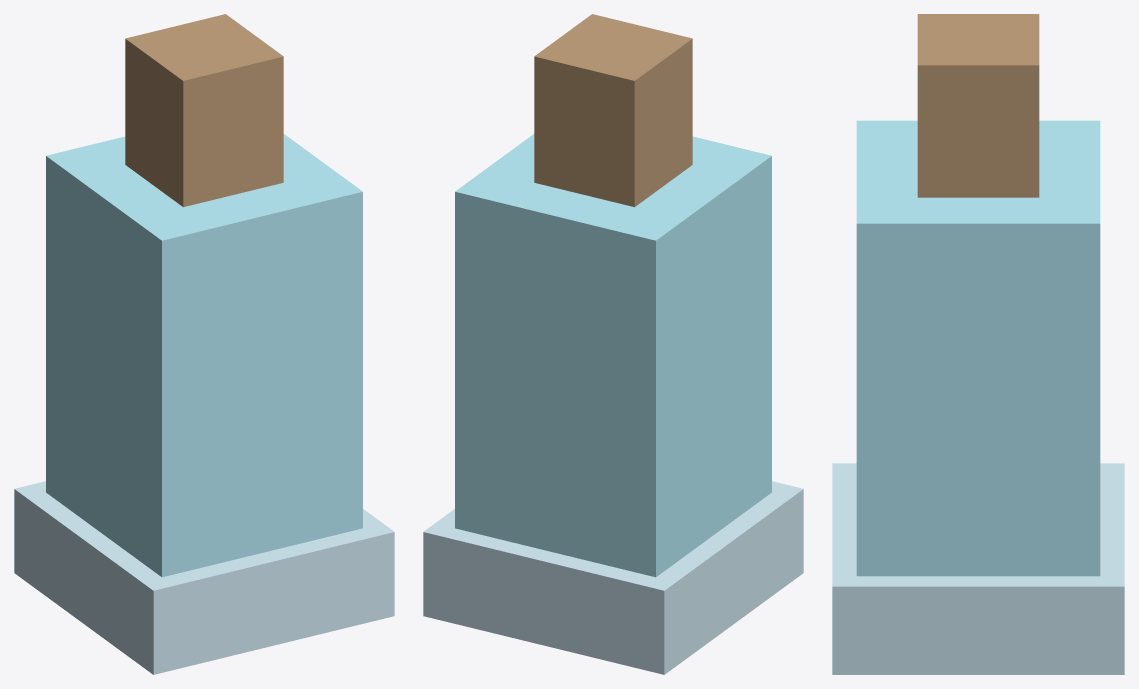
Rendered from Item_Tonic_AMF_Calm_T2.glb.
3 views of the same model, side by side, from view 1: azimuth 30°, elevation 25°; view 2: azimuth 150°, elevation 25°; view 3: azimuth 270°, elevation 25° (orthographic). The views are drawn at different scales.
Parts seen in each view (by area): view 1: Item_Tonic_AMF_Calm_T2; view 2: Item_Tonic_AMF_Calm_T2; view 3: Item_Tonic_AMF_Calm_T2.
Part boxes in pixels (box(x1,y1,x2,y2)): Item_Tonic_AMF_Calm_T2: box(14, 14, 394, 674); Item_Tonic_AMF_Calm_T2: box(423, 14, 803, 674); Item_Tonic_AMF_Calm_T2: box(832, 14, 1124, 674).
Bounding box in the file's own units: 0.12 × 0.26 × 0.12.
